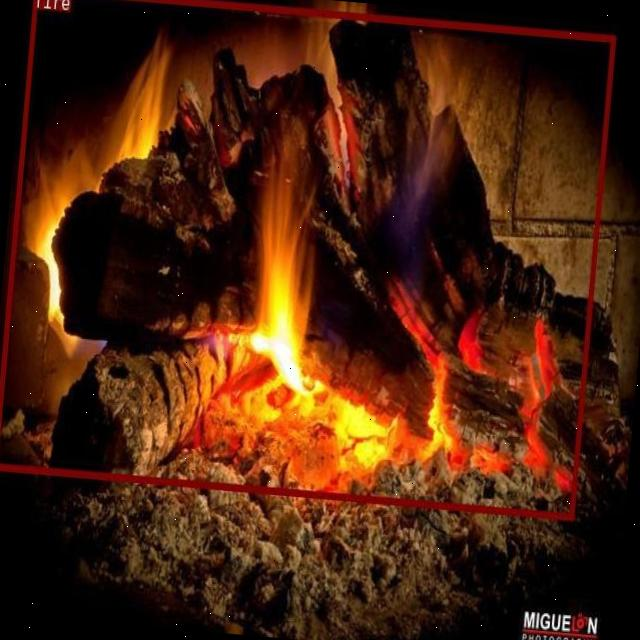fire: (0, 0, 614, 518)
